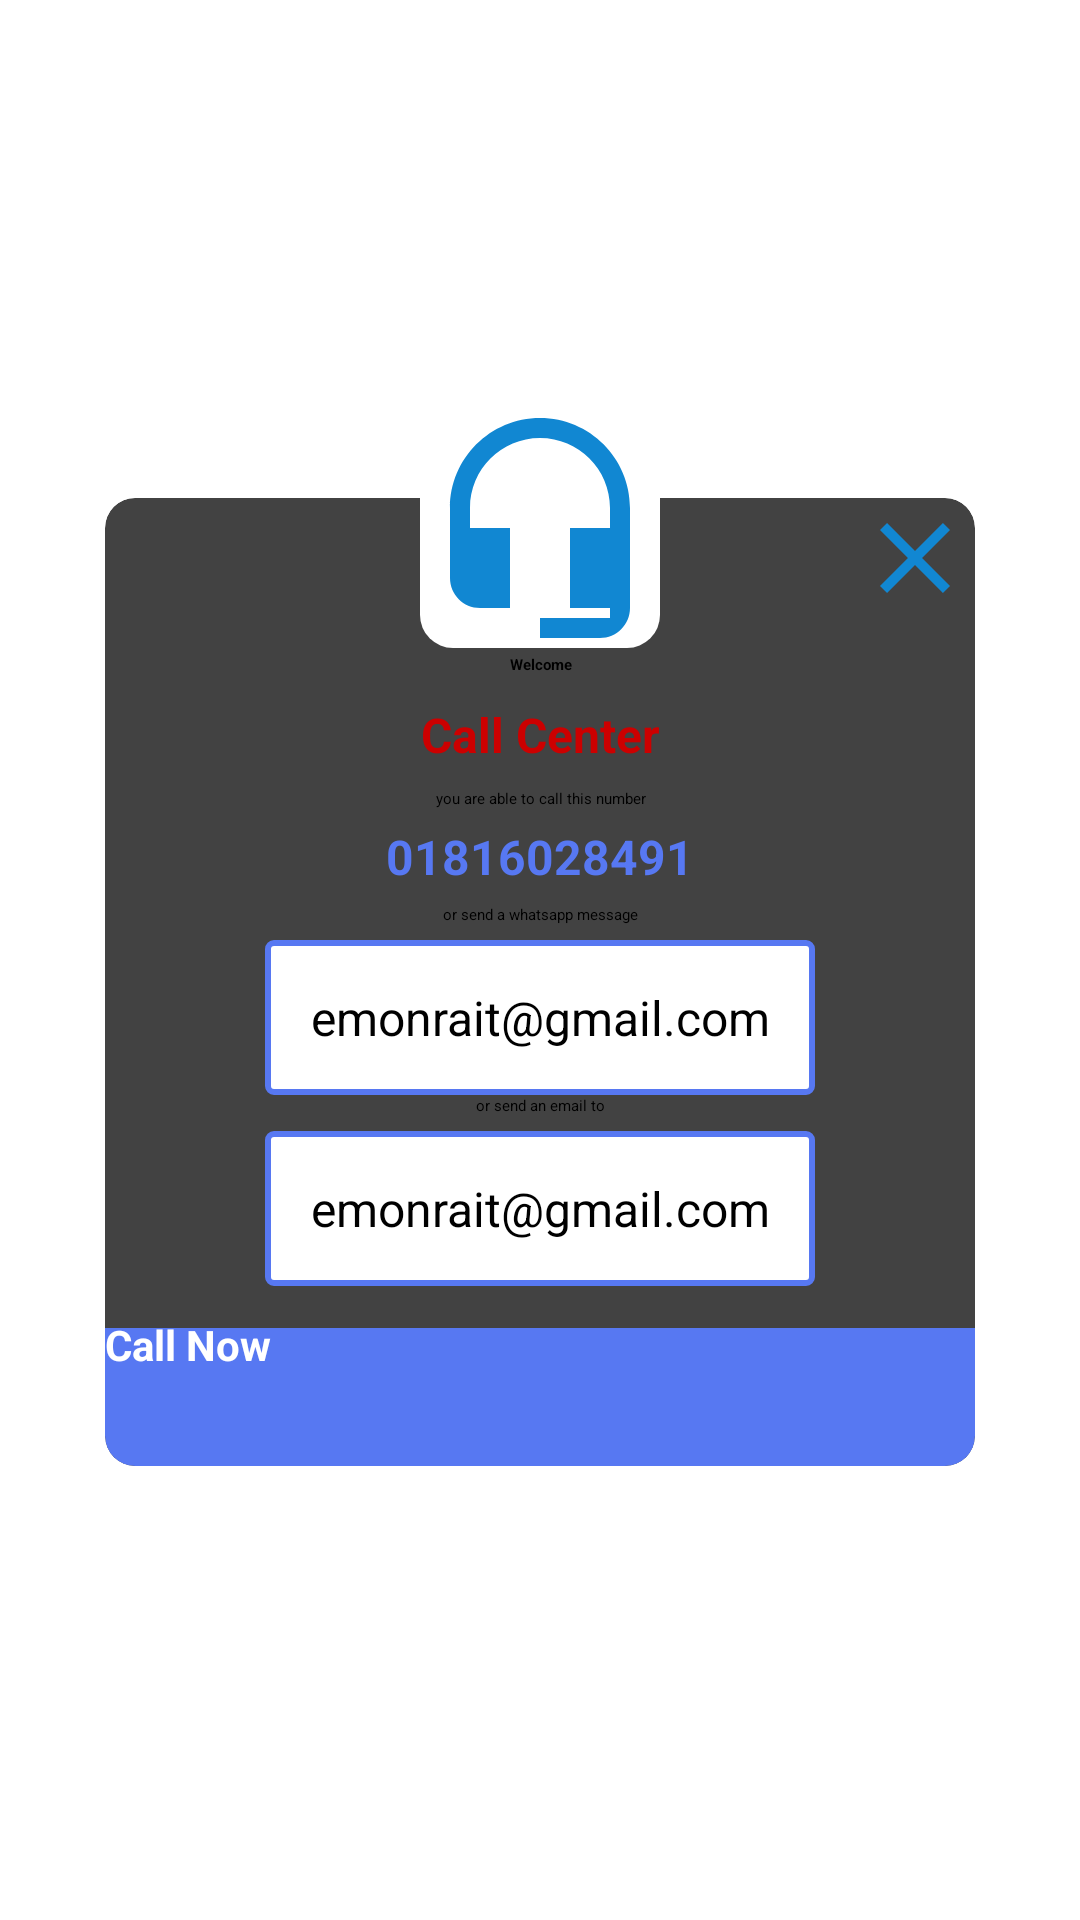

Screen size 1080 × 1920. Icon name, then its center in pixels as point (x, y):
close: point (915, 558)
